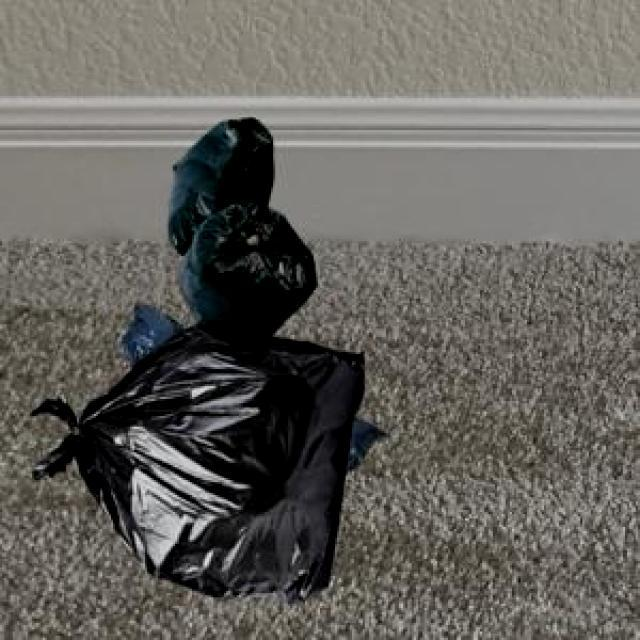Trashbag: (78, 333, 360, 593), (189, 204, 318, 338), (174, 113, 288, 220)
